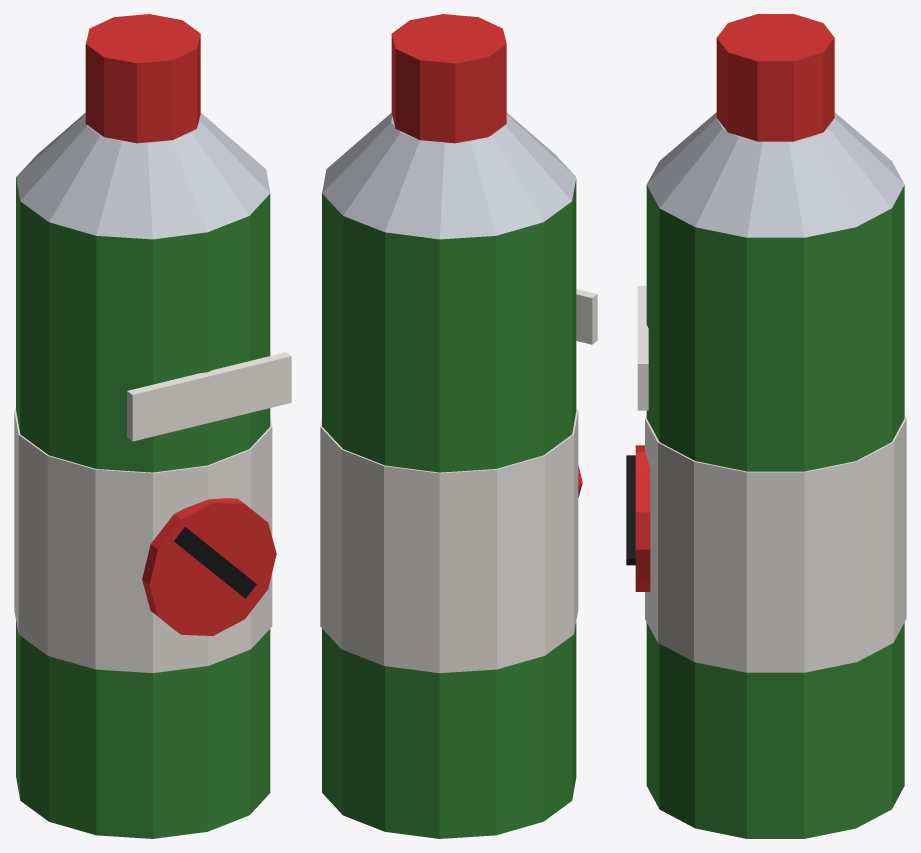
Rendered from spray_can.glb.
The picture shows the model from 3 angles, left to right: view 1: azimuth 30°, elevation 25°; view 2: azimuth 150°, elevation 25°; view 3: azimuth 270°, elevation 25°; orthographic projection.
Visible parts, largest first — view 1: spray_can; view 2: spray_can; view 3: spray_can.
Boxes of the visible parts, box(x1,y1,x2,y2) form: spray_can: box(14, 14, 291, 838); spray_can: box(320, 14, 597, 838); spray_can: box(626, 14, 906, 838).
Bounding box in the file's own units: 0.0692 × 0.224 × 0.076.
